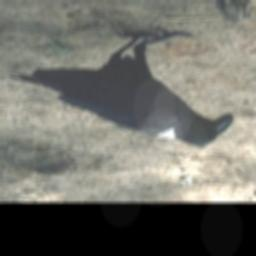Crow: (5, 27, 234, 150)
